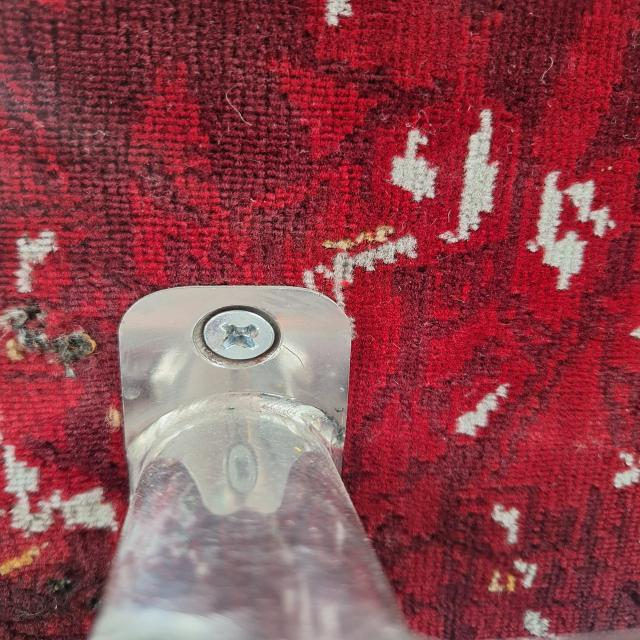Phillips: (196, 308, 280, 367)
